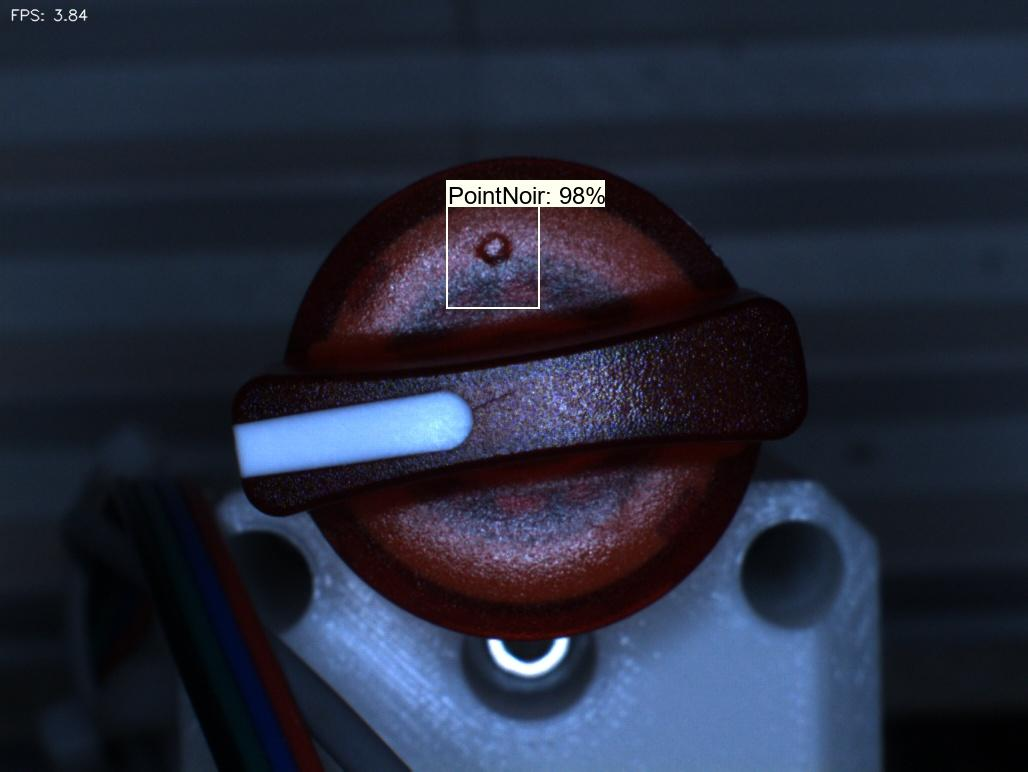Choc: (453, 208, 531, 302)
